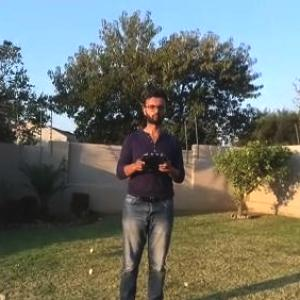follow: (112, 83, 193, 299)
